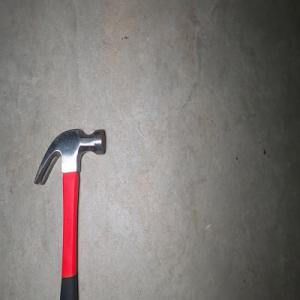Hammer: (32, 127, 106, 300)
